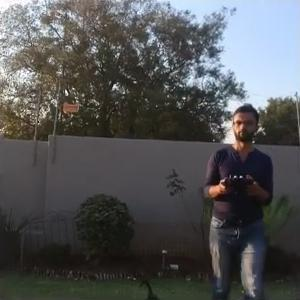follow: (200, 102, 277, 298)
